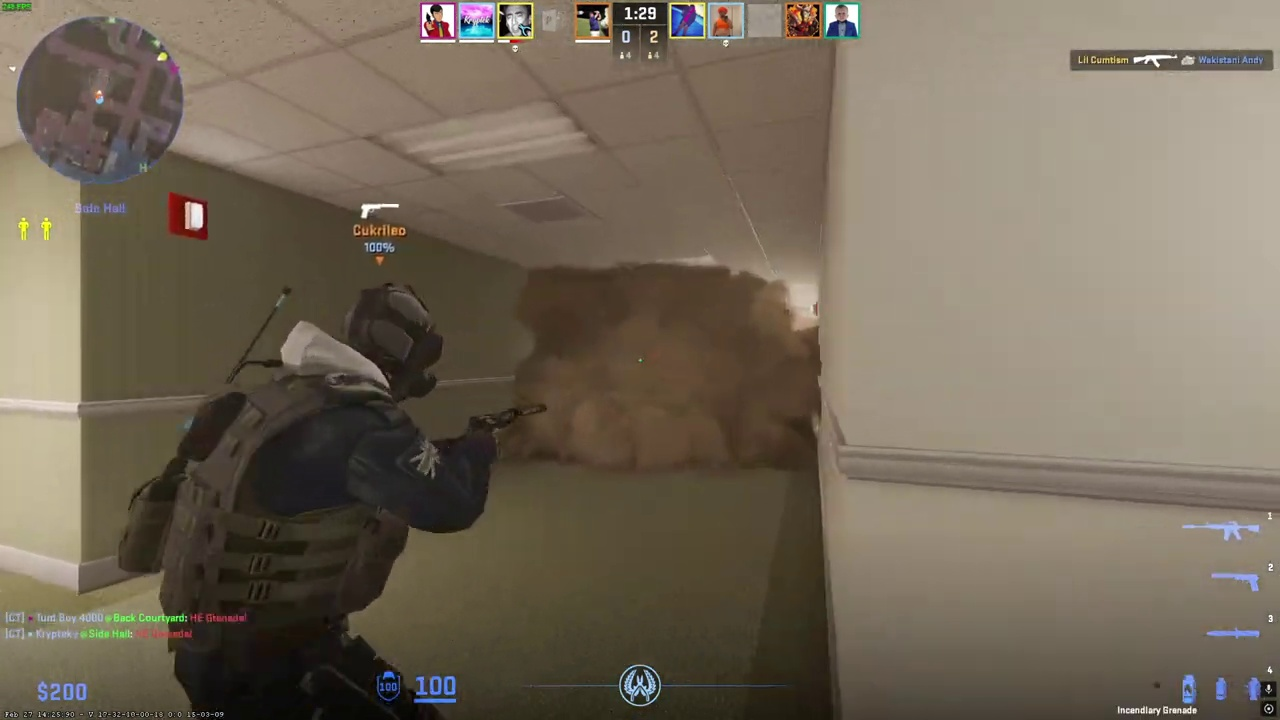CT: (161, 282, 468, 720)
